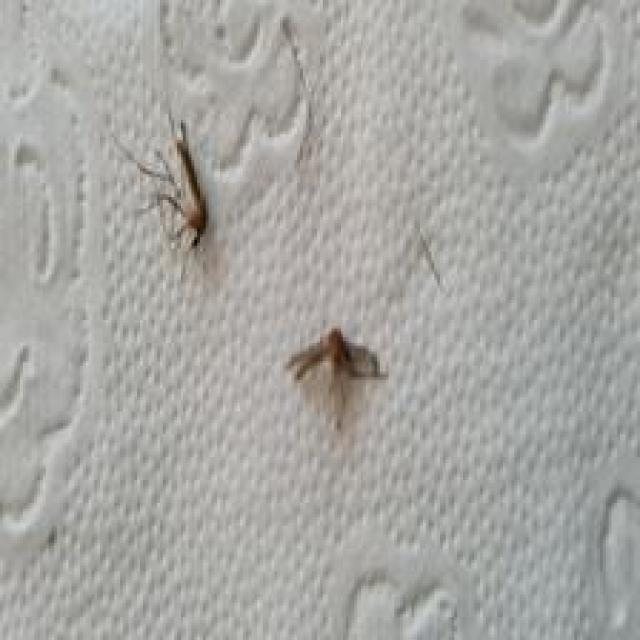Culex: (284, 326, 390, 431)
